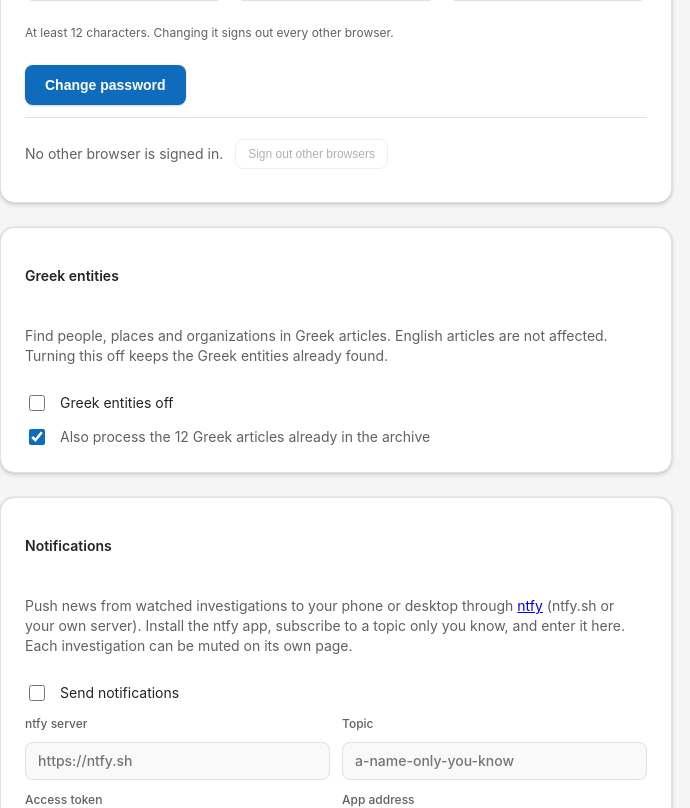
it: turns Greek entities on and queues the Greek archive
The width and height of the screenshot is (690, 808).
(page scrolled)
Expected: the checkbox labelled "Also process the 12 Greek articles already in the archive" is shown, [29,429,45,445]
Click the switch at coordinates (37, 403), box [29,395,45,411]
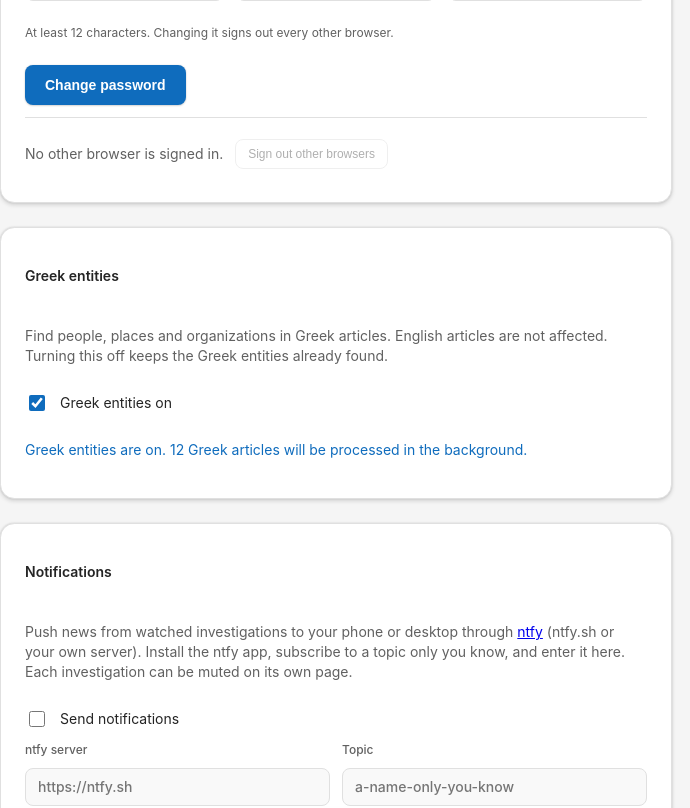
Now the switch is checked, box [29,395,45,411]
Now the text "Greek entities are on. 12 Greek articles will be processed in the background." is shown, box [25,441,527,458]
